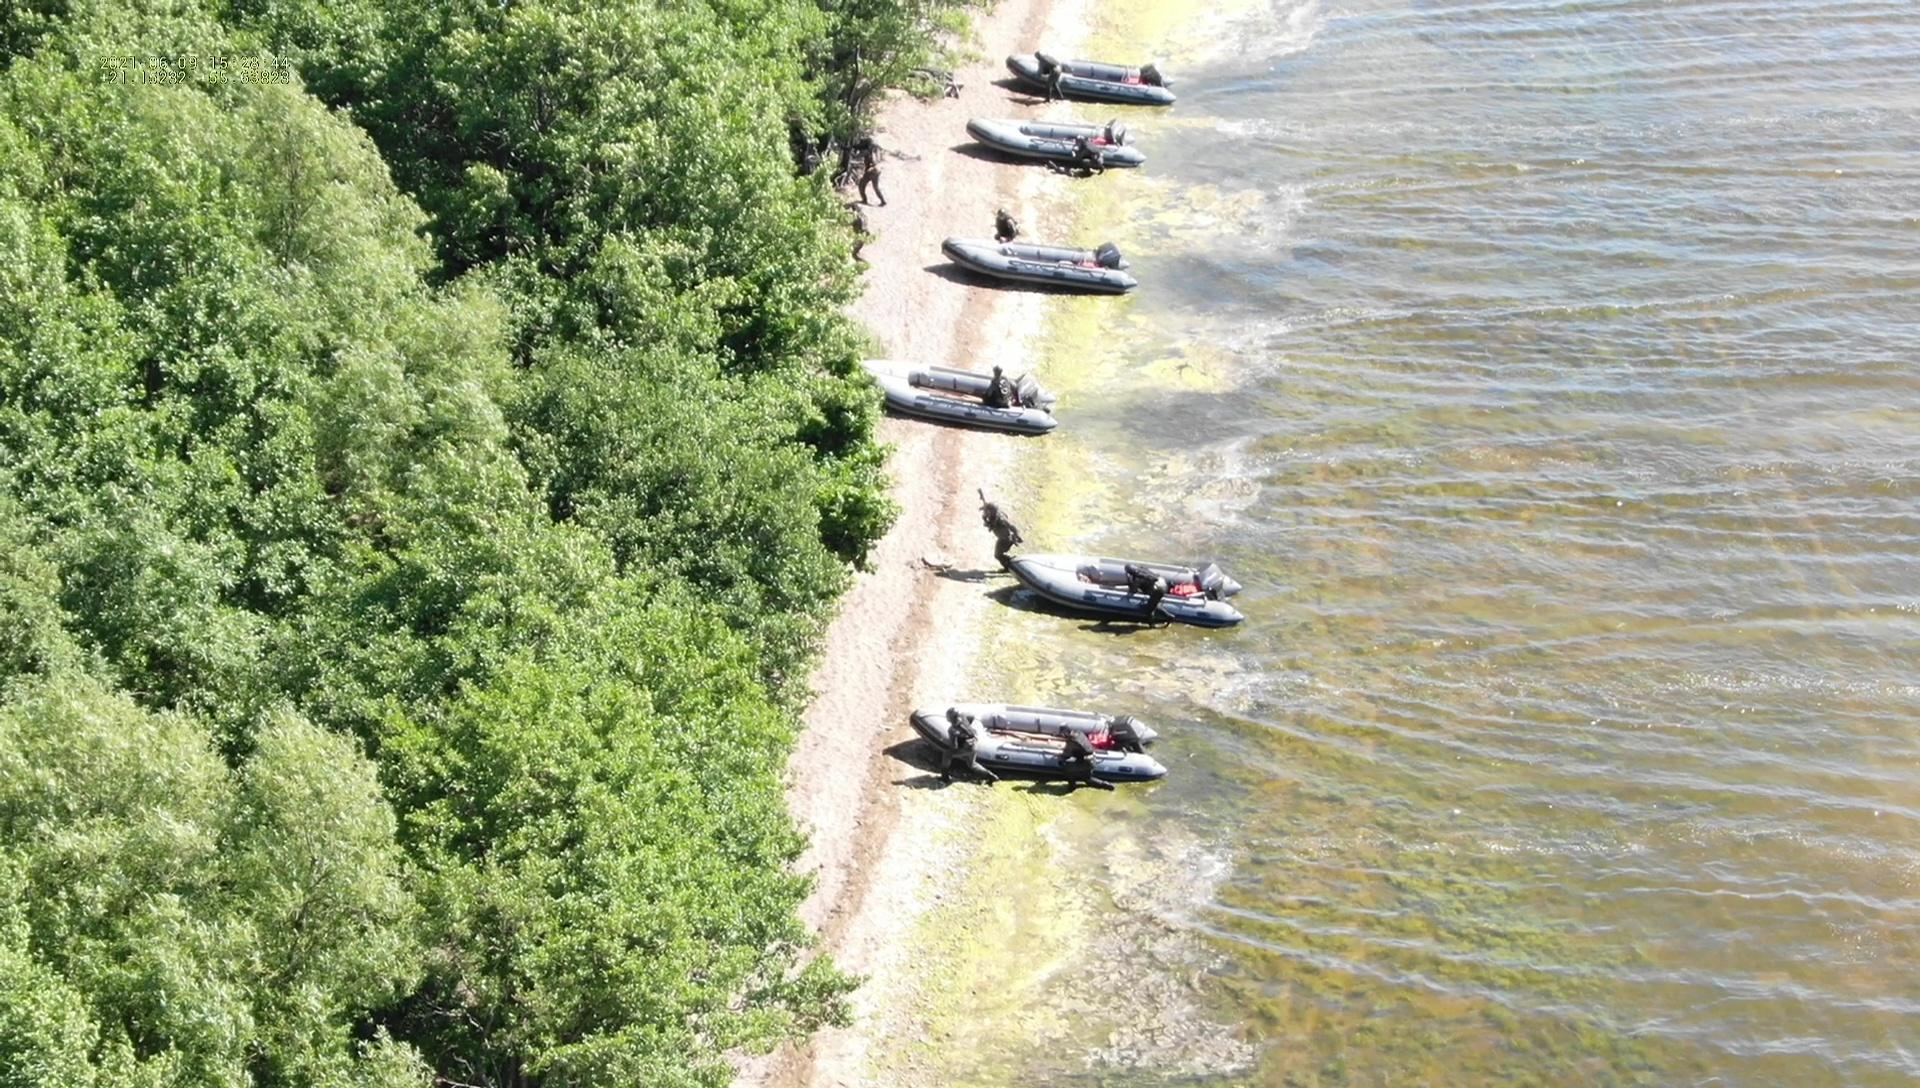Soldier: (939, 708, 998, 787), (977, 487, 1025, 574)
